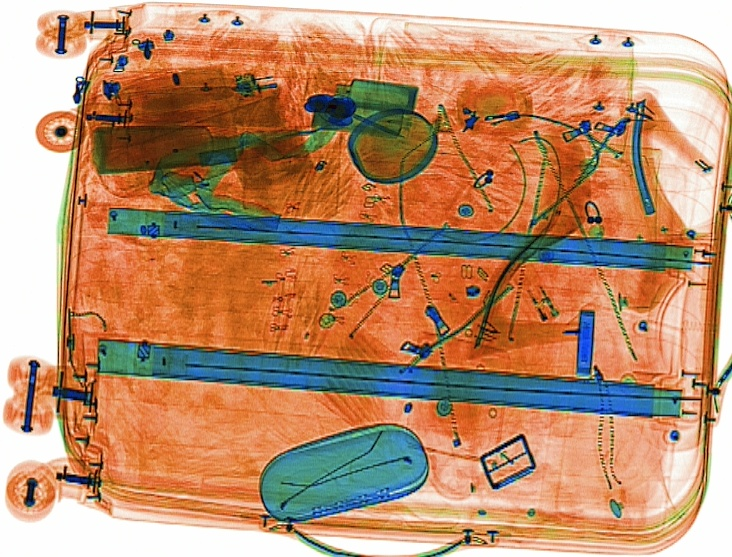lighter: (501, 245, 560, 327)
